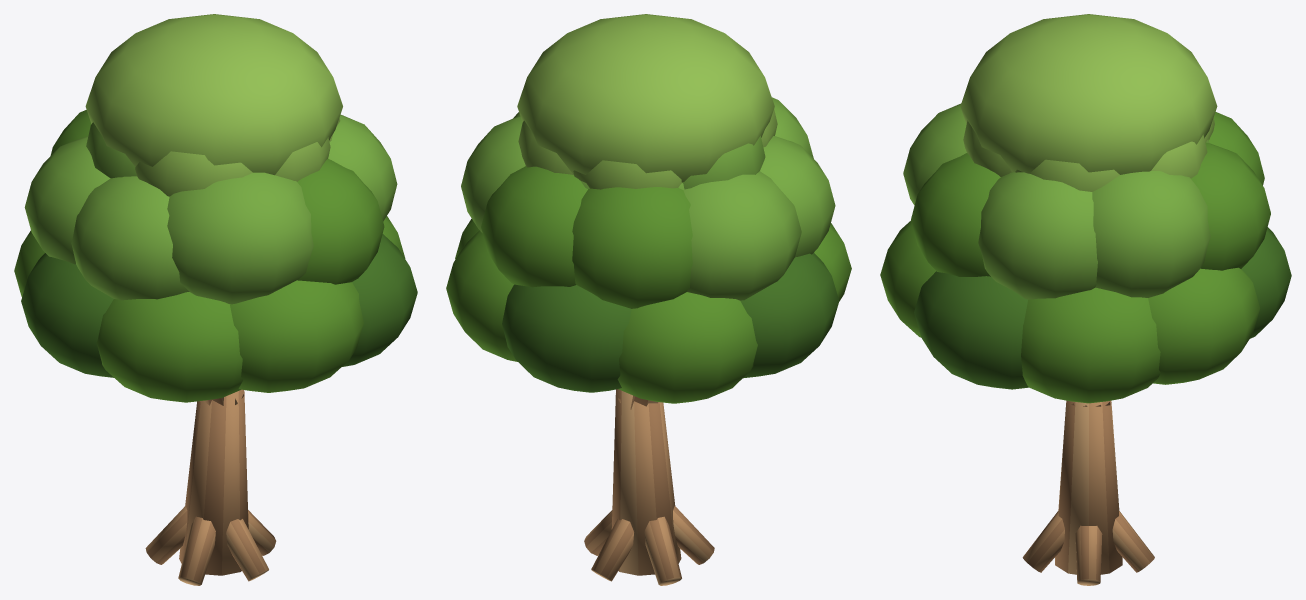
The model's file is foliage_round_tree.glb.
3 views of the same model, side by side, from view 1: azimuth 30°, elevation 25°; view 2: azimuth 150°, elevation 25°; view 3: azimuth 270°, elevation 25° (orthographic).
Visible parts, largest first — view 1: foliage_round_tree; view 2: foliage_round_tree; view 3: foliage_round_tree.
Part boxes in pixels (bbox=[...]): foliage_round_tree: bbox=[14, 14, 417, 585]; foliage_round_tree: bbox=[446, 14, 851, 585]; foliage_round_tree: bbox=[880, 14, 1291, 585].
Bounding box in the file's own units: 1.86 × 2.66 × 1.86.
